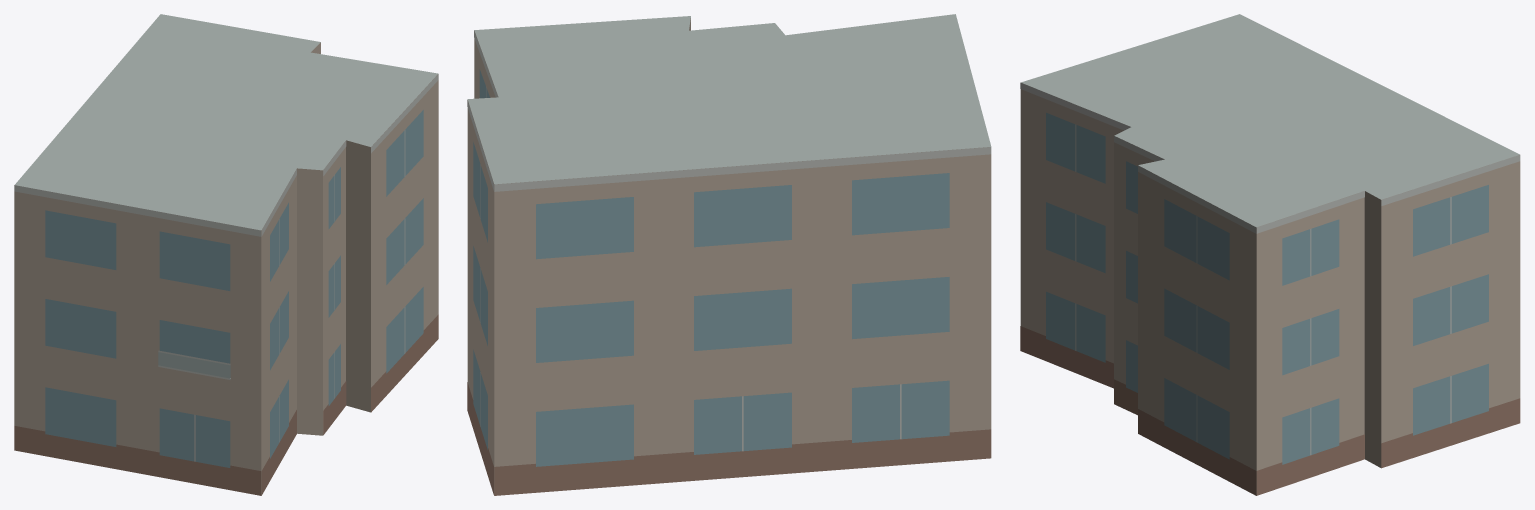
File: survey-upis-32935657.glb
3 renders of one model, left to right at view 1: azimuth 30°, elevation 25°; view 2: azimuth 150°, elevation 25°; view 3: azimuth 270°, elevation 25°, orthographic. The views are drawn at different scales.
Visible parts, largest first — view 1: survey-upis-32935657.tmp; view 2: survey-upis-32935657.tmp; view 3: survey-upis-32935657.tmp.
Part boxes in pixels (box(x1,y1,x2,y2)): survey-upis-32935657.tmp: box(14, 14, 438, 495); survey-upis-32935657.tmp: box(467, 14, 991, 495); survey-upis-32935657.tmp: box(1020, 14, 1520, 495).
Size of the model in its own units: 17.23 by 10.1 by 17.05.
